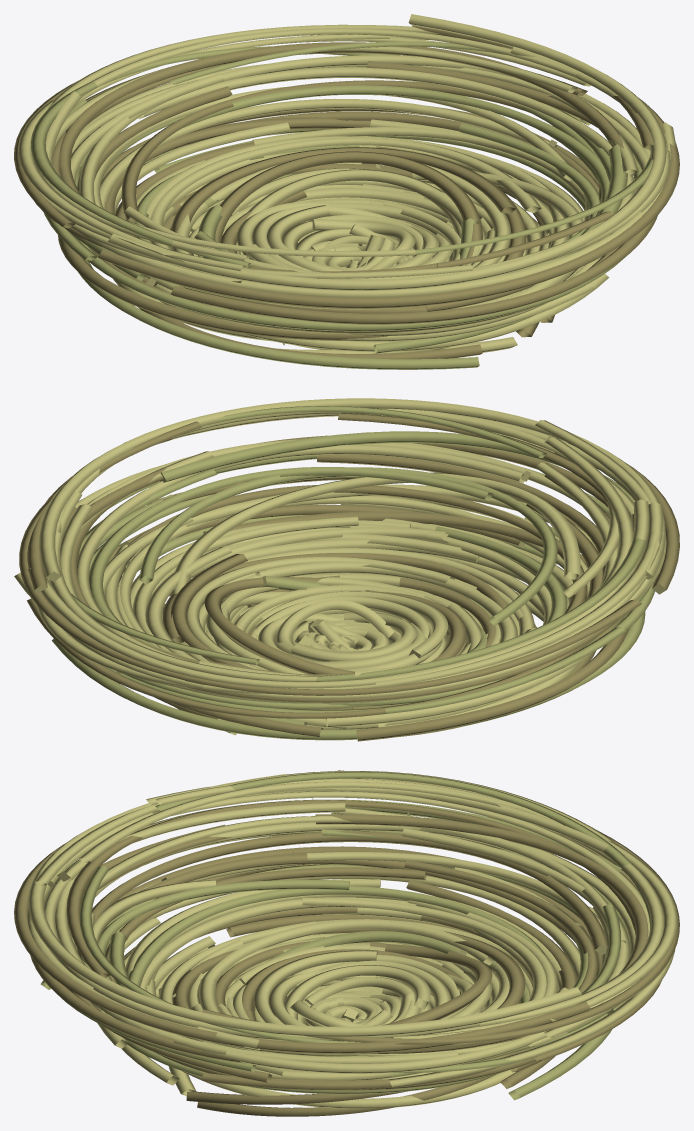
Rendered from Nest.fbx.
The picture shows the model from 3 angles, top to bottom: view 1: azimuth 30°, elevation 25°; view 2: azimuth 150°, elevation 25°; view 3: azimuth 270°, elevation 25°; orthographic projection. The views are drawn at different scales.
Parts seen in each view (by area): view 1: NurbsPath.417; view 2: NurbsPath.417; view 3: NurbsPath.417.
Boxes of the visible parts, left/top/right/bottom form: NurbsPath.417: left=14, top=14, right=679, bottom=369; NurbsPath.417: left=14, top=398, right=679, bottom=741; NurbsPath.417: left=14, top=770, right=679, bottom=1116.
Size of the model in its own units: 264 by 83.63 by 273.
